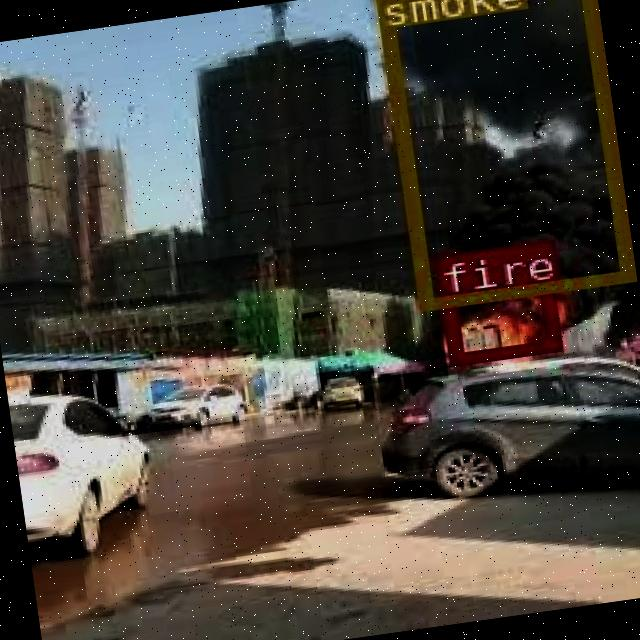fire: (438, 281, 558, 364)
smoke: (371, 0, 630, 307)
